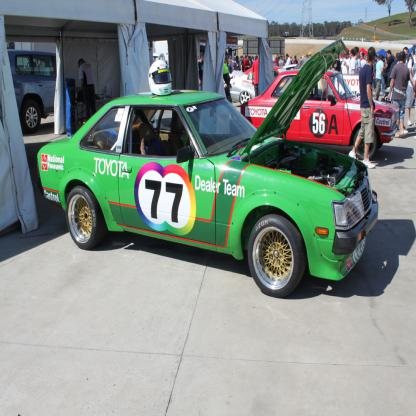Car: (39, 36, 378, 297), (239, 67, 400, 159), (228, 64, 297, 107), (282, 63, 296, 70)
